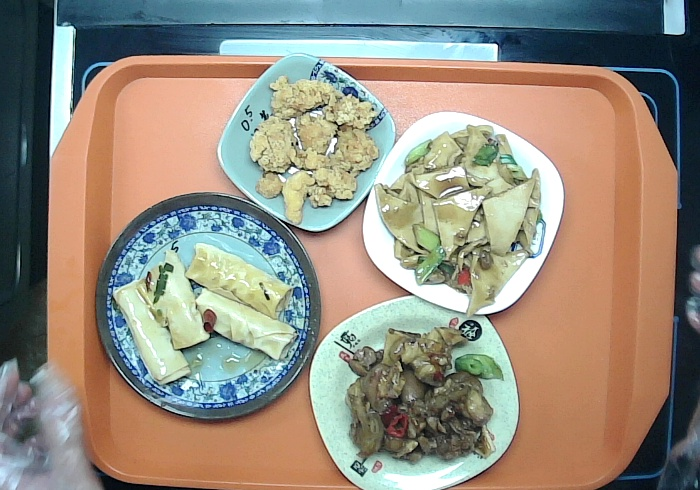NLDX-Bai_Se_Xiao_Fang_Die: (357, 109, 567, 315)
NLDX-Fu_Zi_Fang_Die: (307, 292, 520, 490)
NLDX-Qing_Hua_Xiao_Fang_Die: (214, 51, 399, 237)
NLDX-Qing_Hua_Yuan_Die: (92, 188, 325, 423)
